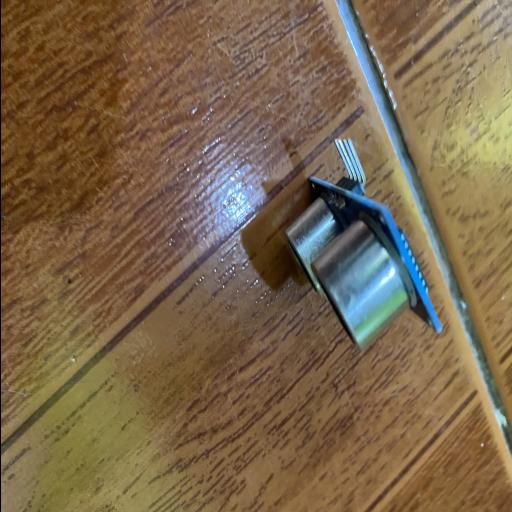Ultrasonic Sensor: (282, 136, 442, 350)
